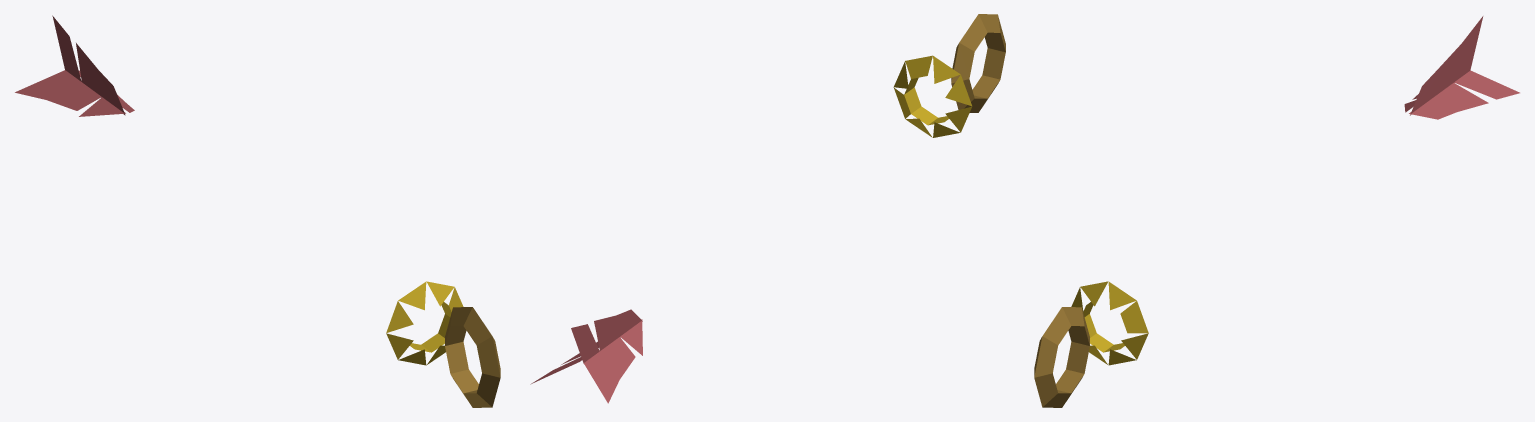
Rendered from arrow-noisemaker.lod.glb.
3 renders of one model, left to right at view 1: azimuth 30°, elevation 25°; view 2: azimuth 150°, elevation 25°; view 3: azimuth 330°, elevation 25°, orthographic. The views are drawn at different scales.
Visible parts, largest first — view 1: m; view 2: m; view 3: m.
Part boxes in pixels (x1,y1,x2,y2): m: (15,15,500,407); m: (530,14,1005,403); m: (1034,16,1519,407).
Size of the model in its own units: 0.0301 by 0.036 by 0.288.
